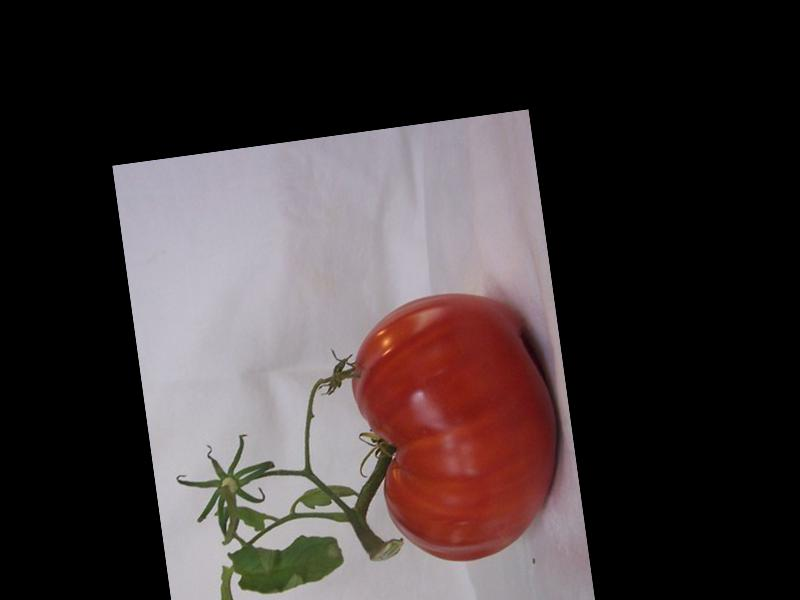Tomato: (342, 280, 574, 574)
